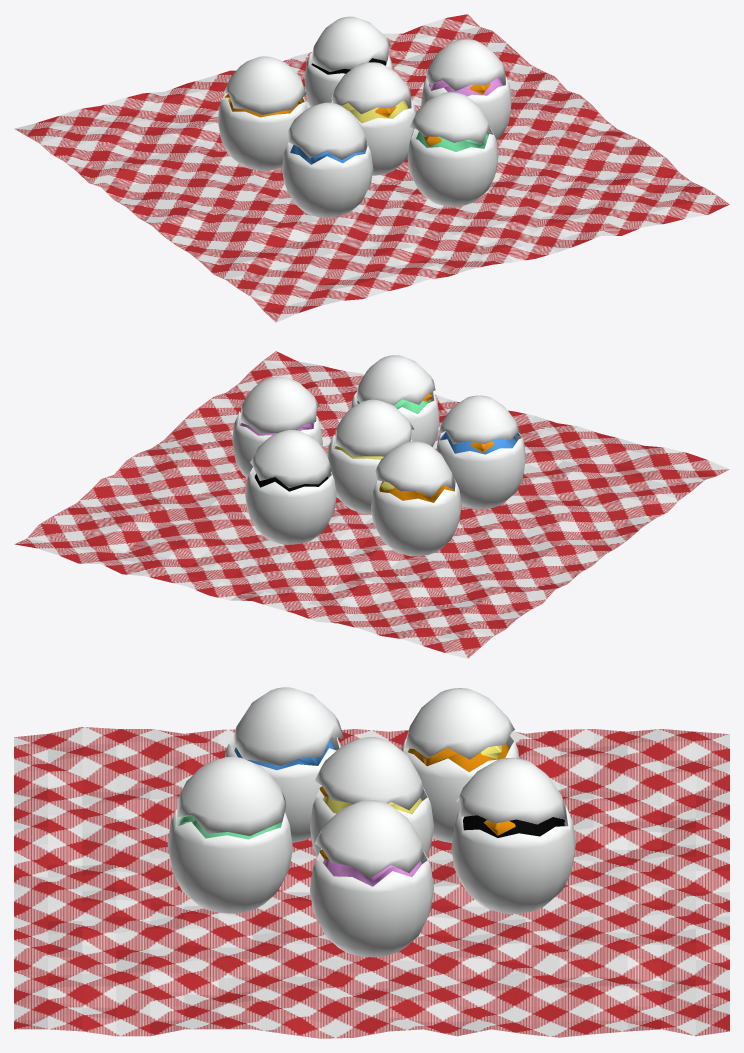
The model's file is bobbing_bird.glb.
The picture shows the model from 3 angles, top to bottom: view 1: azimuth 30°, elevation 25°; view 2: azimuth 150°, elevation 25°; view 3: azimuth 270°, elevation 25°; orthographic projection. The views are drawn at different scales.
Visible parts, largest first — view 1: Plane_11, Bird.004_8, Bird.005_9, Bird.003_7, Bird_1, Bird.002_5, Bird.001_6; view 2: Plane_11, Bird.001_6, Bird.003_7, Bird.004_8, Bird_1, Bird.002_5, Bird.005_9; view 3: Plane_11, Bird.005_9, Bird.002_5, Bird.001_6, Bird.003_7, Bird.004_8, Bird_1.
Part boxes in pixels (left/top/right/bottom): Plane_11: left=14, top=14, right=729, bottom=322; Bird.004_8: left=282, top=102, right=373, bottom=217; Bird.005_9: left=407, top=92, right=498, bottom=206; Bird.003_7: left=217, top=56, right=307, bottom=170; Bird_1: left=331, top=62, right=415, bottom=175; Bird.002_5: left=421, top=39, right=511, bottom=139; Bird.001_6: left=304, top=16, right=392, bottom=106; Plane_11: left=14, top=351, right=729, bottom=658; Bird.001_6: left=245, top=430, right=336, bottom=544; Bird.003_7: left=371, top=441, right=461, bottom=556; Bird.004_8: left=436, top=395, right=525, bottom=508; Bird_1: left=327, top=399, right=414, bottom=514; Bird.002_5: left=232, top=376, right=322, bottom=478; Bird.005_9: left=351, top=355, right=439, bottom=446; Plane_11: left=14, top=727, right=729, bottom=1038; Bird.005_9: left=167, top=756, right=292, bottom=913; Bird.002_5: left=310, top=800, right=433, bottom=957; Bird.001_6: left=451, top=758, right=575, bottom=913; Bird.003_7: left=401, top=688, right=519, bottom=842; Bird.004_8: left=224, top=687, right=343, bottom=842; Bird_1: left=310, top=737, right=433, bottom=856.
Bounding box in the file's own units: 11.73 × 2.68 × 11.73.
Materials: 2 (2 with a texture image).
